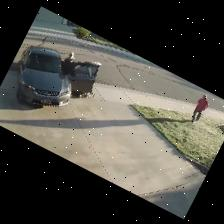person: (62, 52, 85, 76), (192, 94, 208, 122)
